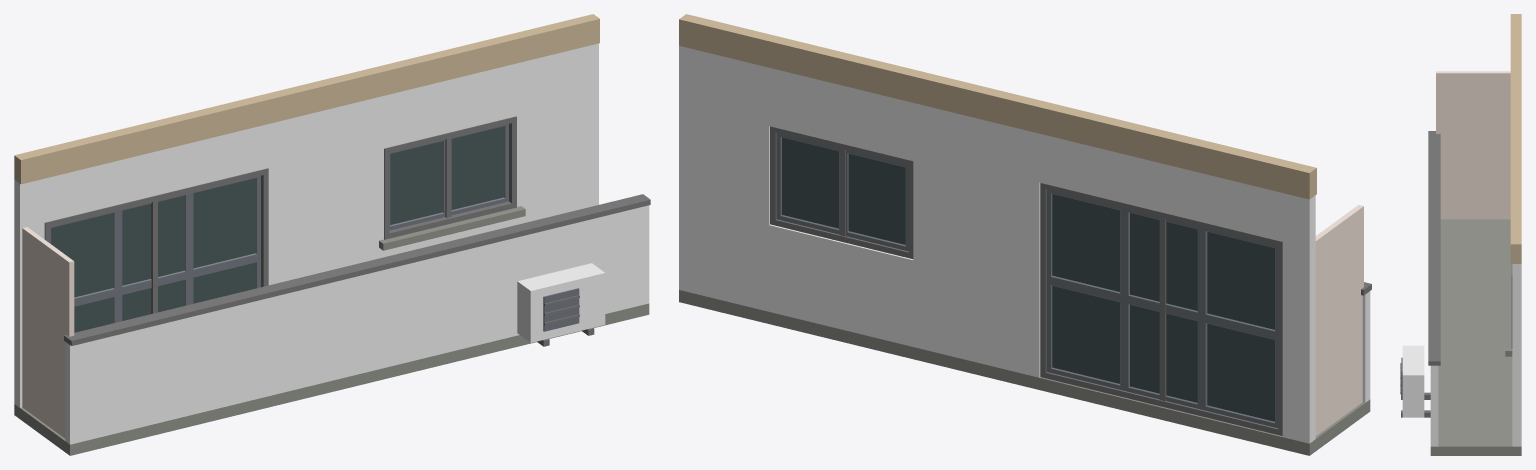
Rendered from mid-w1_close.fbx.
3 renders of one model, left to right at view 1: azimuth 30°, elevation 25°; view 2: azimuth 150°, elevation 25°; view 3: azimuth 270°, elevation 25°, orthographic. The views are drawn at different scales.
Visible parts, largest first — view 1: a2001_700_mid-w1.001; view 2: a2001_700_mid-w1.001; view 3: a2001_700_mid-w1.001.
Part boxes in pixels (x1,y1,x2,y2): a2001_700_mid-w1.001: (14,14,650,455); a2001_700_mid-w1.001: (679,14,1371,455); a2001_700_mid-w1.001: (1400,14,1521,455).
Size of the model in its own units: 7 by 3 by 1.56.
